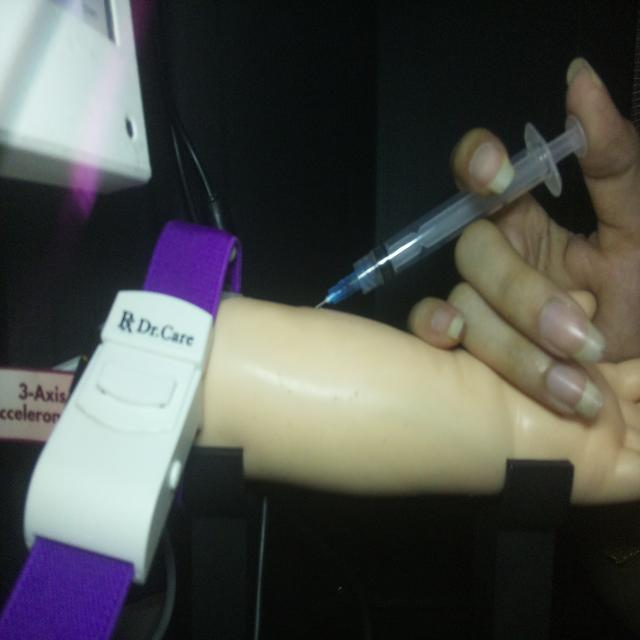22 degrees: (313, 111, 589, 311)
